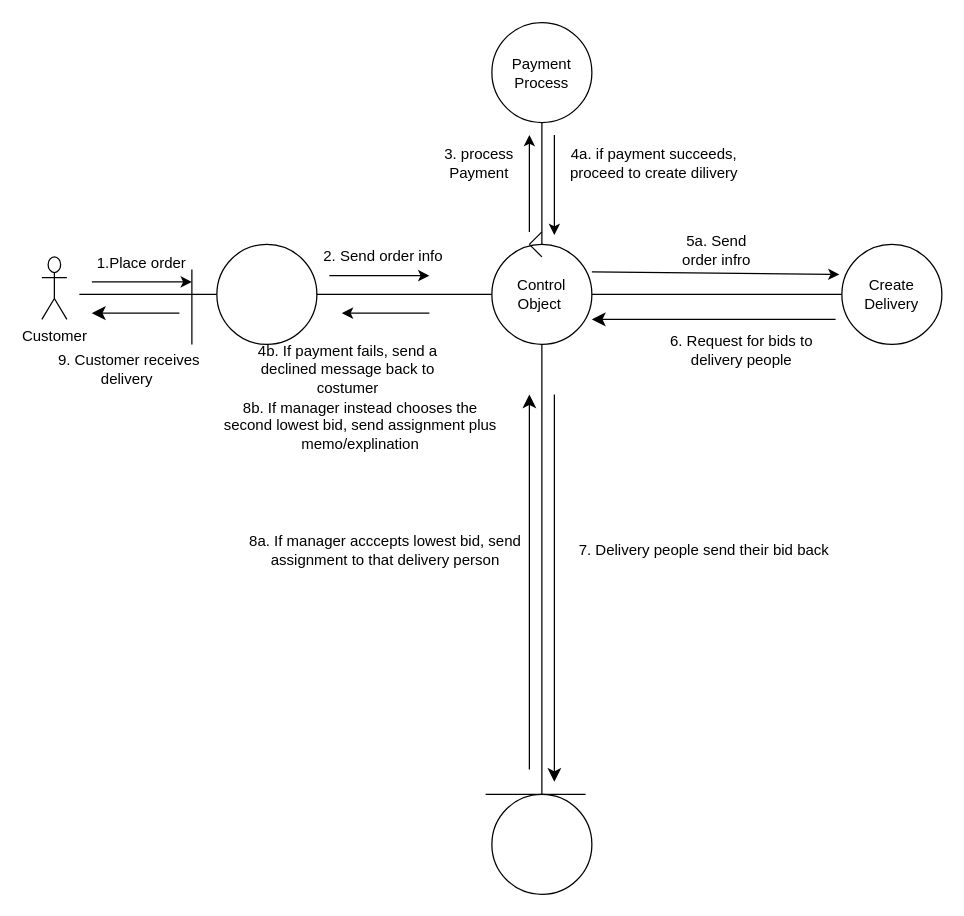
Some shapes in this 964 by 916 pixel diagram are drawn without their labels. The shapes that lost their labels are listed below. From the top down, each one's box as (x1, y1, x2, y2) in pixels, then its label:
(216, 243, 317, 344): I/O
(491, 793, 592, 894): Manager DB
